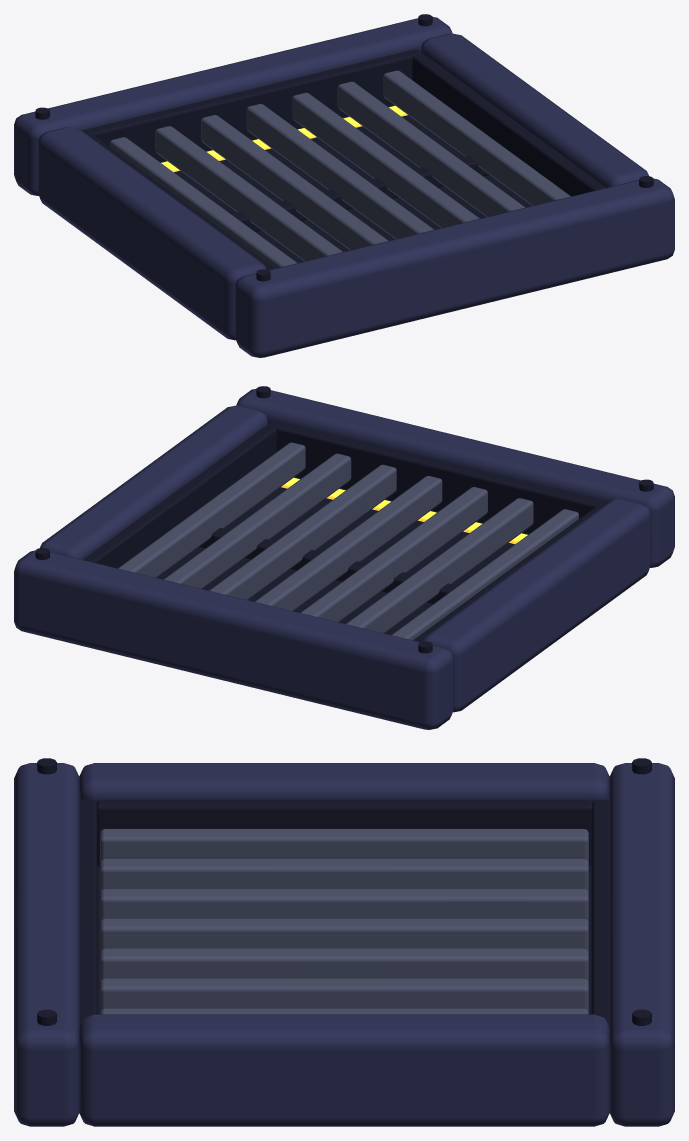
The model's file is roof.small.vent.glb.
3 views of the same model, one above another, from view 1: azimuth 30°, elevation 25°; view 2: azimuth 150°, elevation 25°; view 3: azimuth 270°, elevation 25° (orthographic). The views are drawn at different scales.
Parts seen in each view (by area): view 1: roof.small.vent; view 2: roof.small.vent; view 3: roof.small.vent.
Part boxes in pixels (bbox=[...]): roof.small.vent: bbox=[14, 14, 674, 357]; roof.small.vent: bbox=[14, 386, 674, 729]; roof.small.vent: bbox=[14, 758, 674, 1126].
Size of the model in its own units: 0.8 by 0.141 by 0.8.
